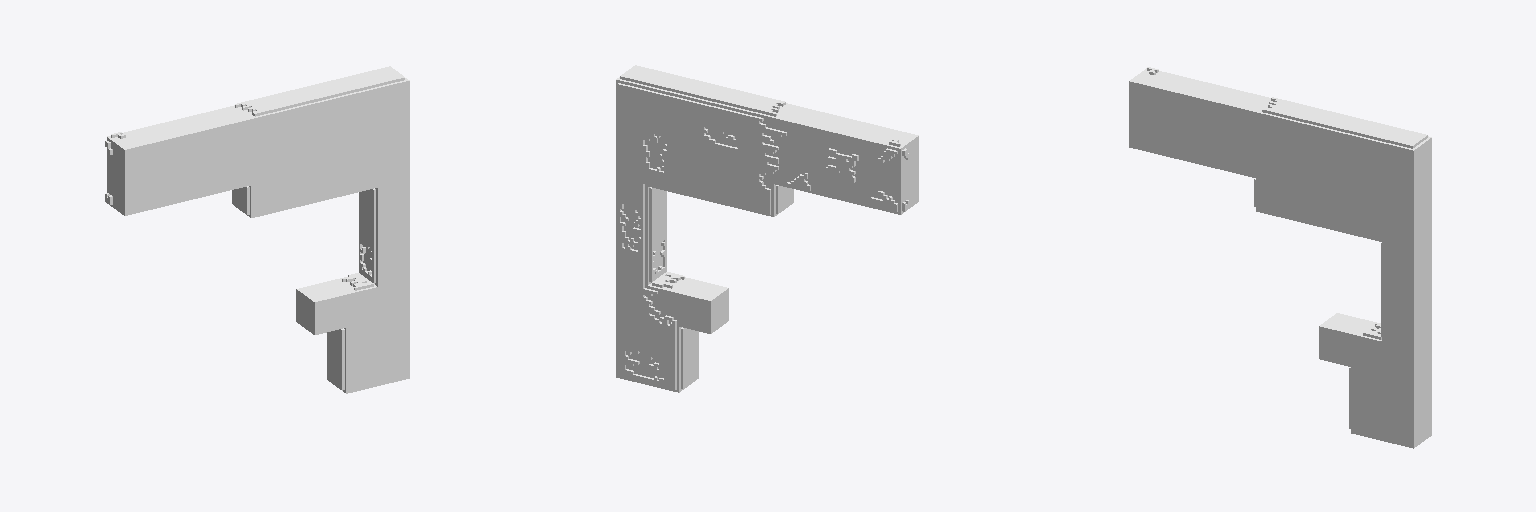
The model's file is hautgauche.obj.
3 renders of one model, left to right at view 1: azimuth 30°, elevation 25°; view 2: azimuth 150°, elevation 25°; view 3: azimuth 330°, elevation 25°, orthographic.
Bounding box in the file's own units: 109 × 109 × 13.